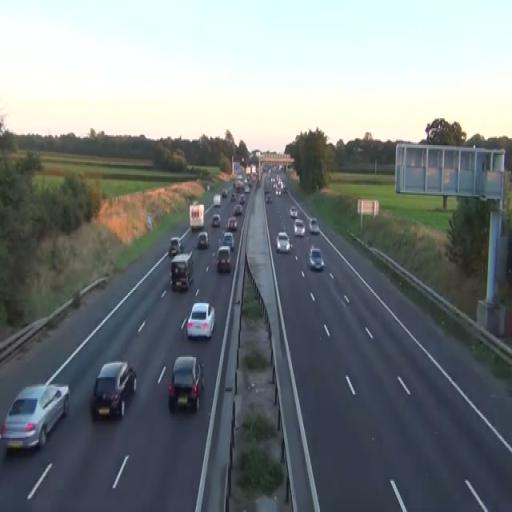Car: (1, 383, 70, 452), (90, 361, 138, 421), (168, 355, 204, 413), (186, 302, 216, 341), (216, 245, 231, 274), (308, 248, 325, 272), (276, 230, 292, 254), (222, 232, 234, 252), (294, 219, 305, 238), (197, 232, 209, 249), (227, 216, 238, 231), (212, 214, 221, 228)
Truck: (170, 252, 194, 292), (189, 203, 205, 232)
